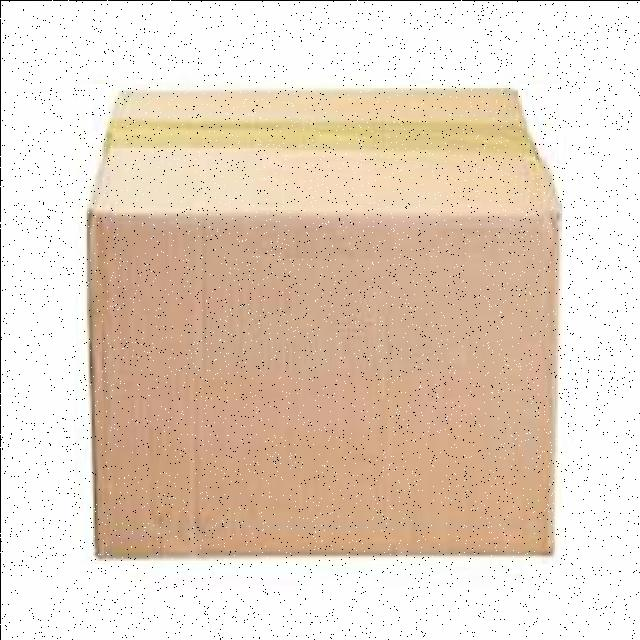normal: (77, 83, 563, 563)
